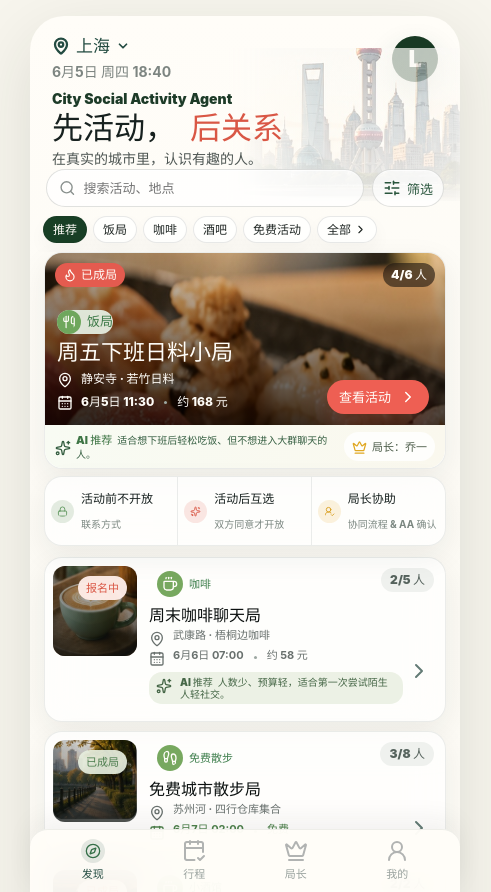
Scenario: App signup flow › shows the unchecked JuZhang note after signup
Click the button with aria-label "查看 周五下班日料小局": (378, 397) [327, 380, 429, 414]
(page scrolled)
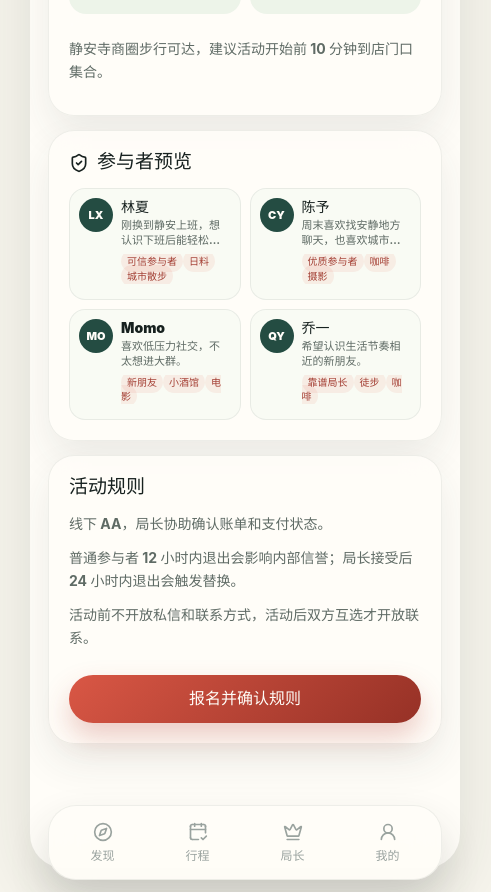
Click the button "报名并确认规则": (245, 699) [69, 675, 421, 723]
(page scrolled)
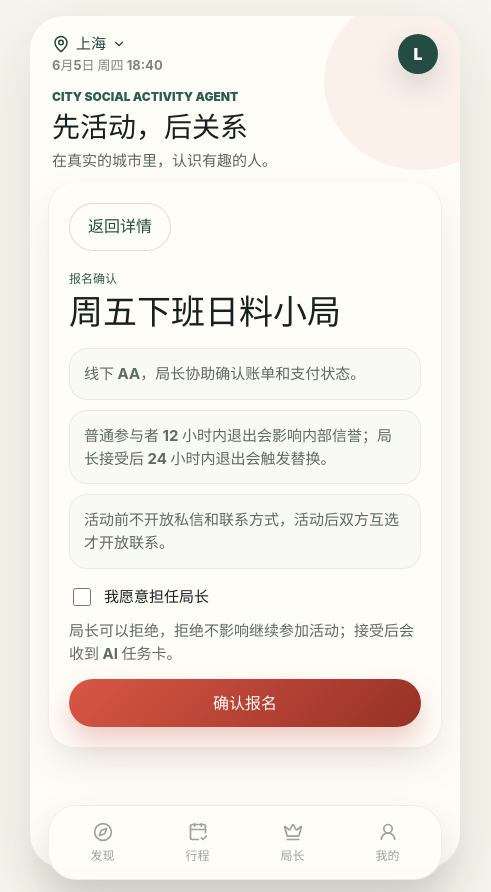
Click the button "确认报名": (245, 703) [69, 679, 421, 727]
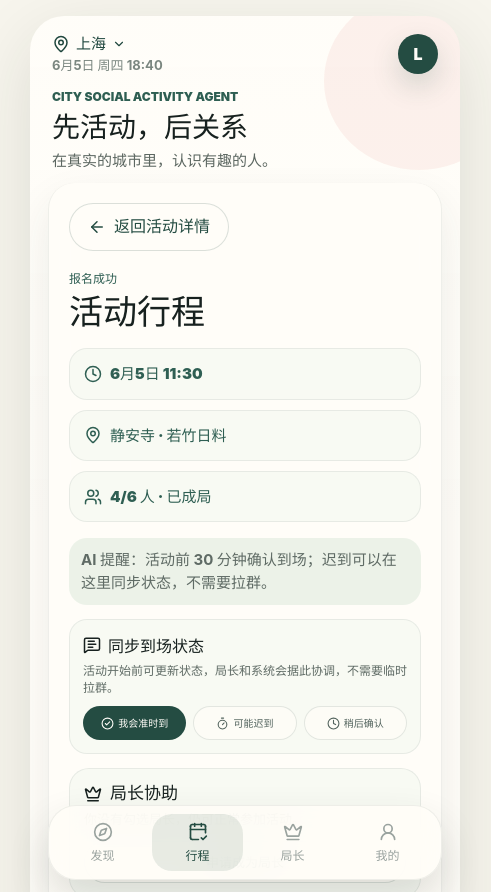
Now the text "你没有勾选局长，仍可正常参加活动。" is shown, box [84, 811, 305, 827]
Now the button "申请成为局长" is shown, box [84, 841, 406, 883]
